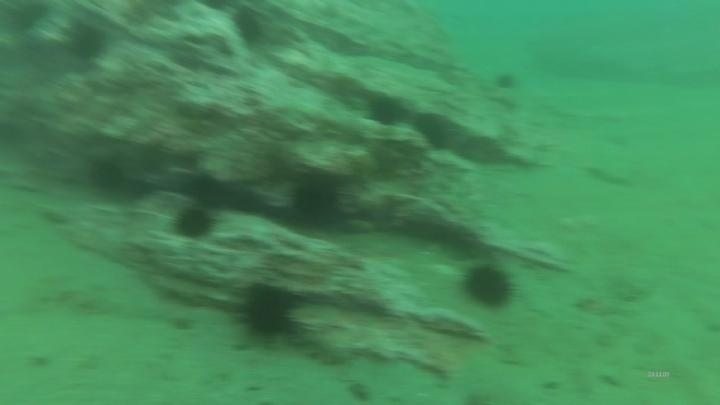echinus: (232, 281, 302, 347), (286, 172, 348, 229), (459, 259, 518, 313), (64, 20, 111, 65), (85, 153, 130, 200), (170, 202, 218, 243), (229, 4, 269, 50), (364, 91, 408, 130), (479, 64, 523, 103)
